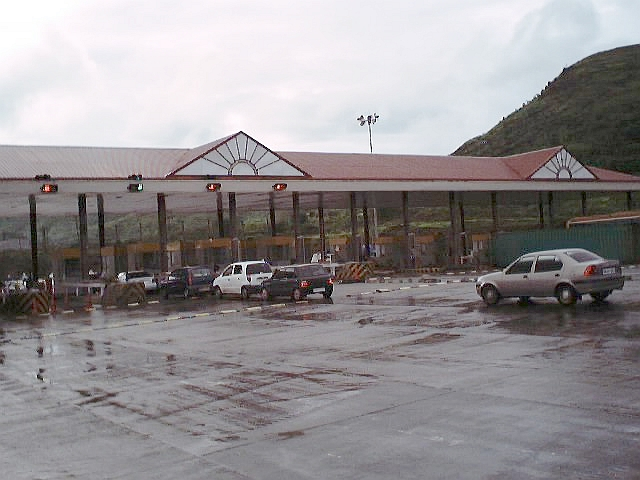toll plaza: (3, 128, 470, 296)
